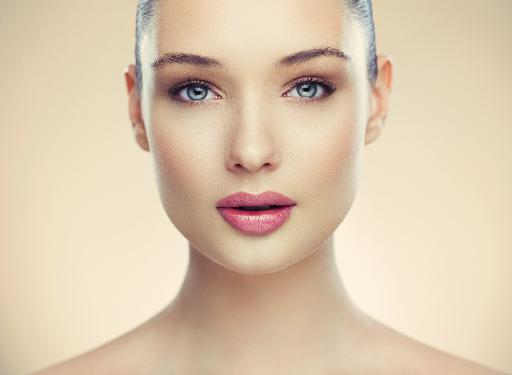left_eye: (277, 78, 337, 101)
left_lip_corner: (285, 196, 300, 214)
right_eye: (171, 81, 226, 105)
right_lip_corner: (213, 200, 233, 215)
